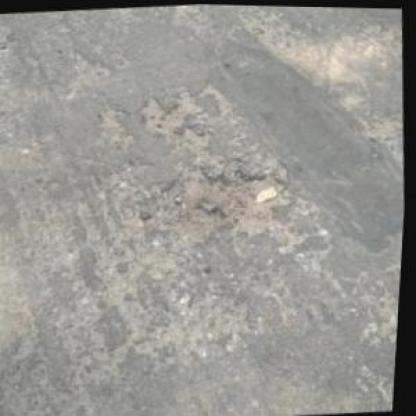pothole: (148, 152, 302, 247), (136, 82, 236, 157)
